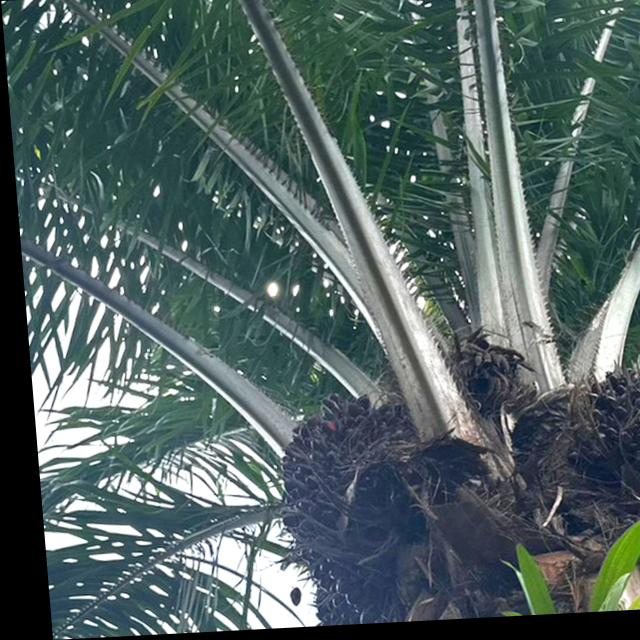ripe: (239, 375, 450, 631), (542, 345, 640, 502)
